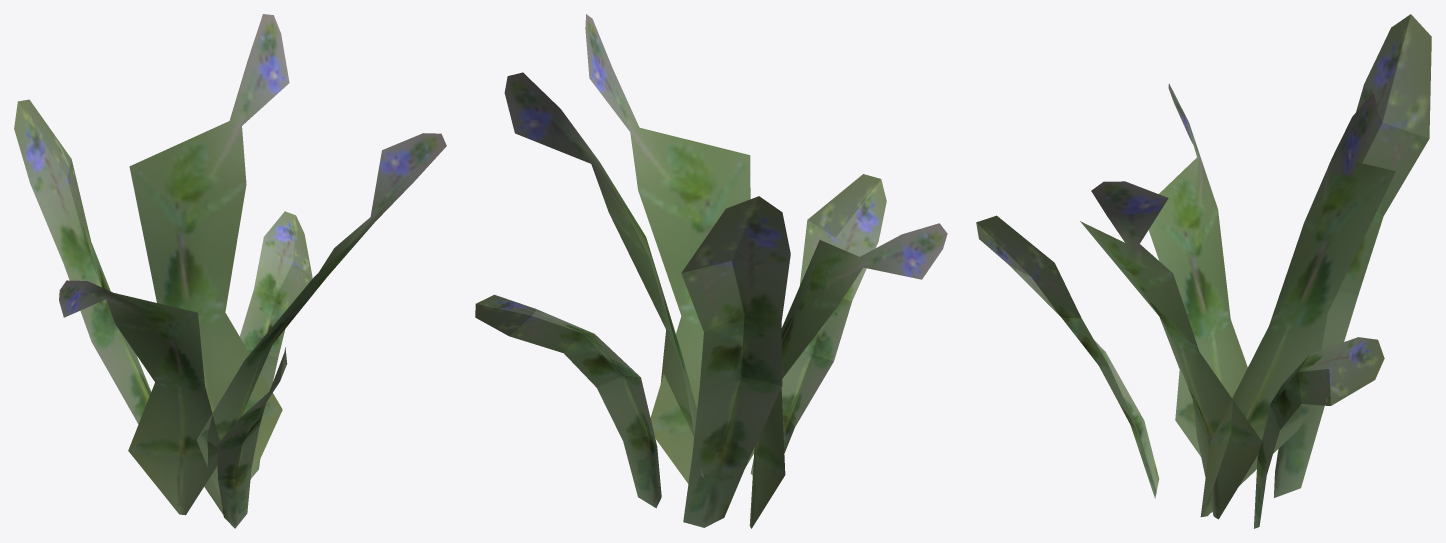
Rendered from flower.glb.
3 renders of one model, left to right at view 1: azimuth 30°, elevation 25°; view 2: azimuth 150°, elevation 25°; view 3: azimuth 270°, elevation 25°, orthographic. The views are drawn at different scales.
Parts seen in each view (by area): view 1: flower_06_04_LOD0; view 2: flower_06_04_LOD0; view 3: flower_06_04_LOD0.
Boxes of the visible parts, x1,y1,x2,y2 form: flower_06_04_LOD0: (14,14,446,528); flower_06_04_LOD0: (475,14,947,528); flower_06_04_LOD0: (976,14,1431,528).
Size of what is drawn, in the model's own units: 0.2187 by 0.2505 by 0.213.
Materials: 1 (1 with a texture image).
